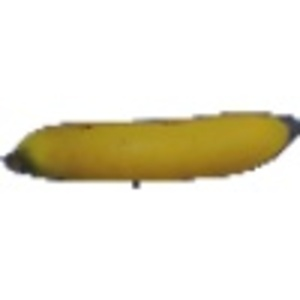banana: (1, 108, 299, 180)
